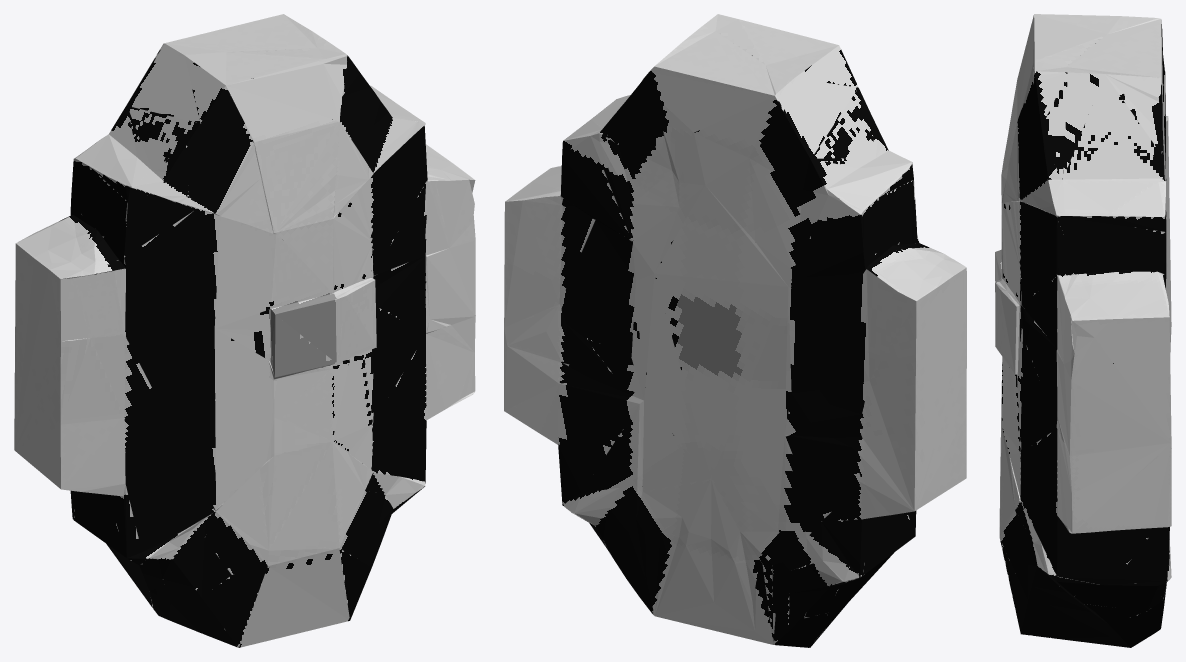
3 renders of one model, left to right at view 1: azimuth 30°, elevation 25°; view 2: azimuth 150°, elevation 25°; view 3: azimuth 270°, elevation 25°, orthographic.
Parts seen in each view (by area): view 1: OBJ0a7; view 2: OBJ0a7; view 3: OBJ0a7.
Boxes of the visible parts, x1,y1,x2,y2 form: OBJ0a7: [14, 14, 475, 647]; OBJ0a7: [504, 14, 966, 647]; OBJ0a7: [995, 14, 1171, 647].
Size of the model in its own units: 0.149 by 0.1933 by 0.0547.
1 material, 1 textured.
